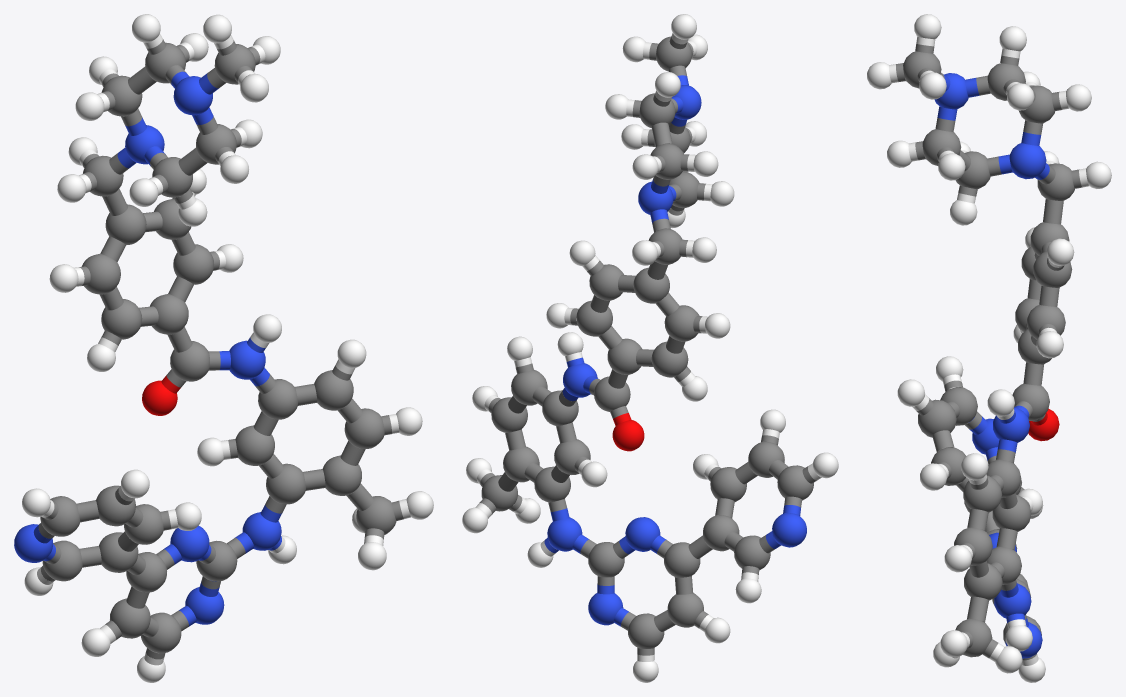
File: atom_1.glb
The picture shows the model from 3 angles, left to right: view 1: azimuth 30°, elevation 25°; view 2: azimuth 150°, elevation 25°; view 3: azimuth 270°, elevation 25°; orthographic projection. The views are drawn at different scales.
Visible parts, largest first — view 1: atom_gray, atom_white, atom_blue, atom_red; view 2: atom_gray, atom_white, atom_blue, atom_red; view 3: atom_gray, atom_white, atom_blue, atom_red.
Part boxes in pixels (left/top/right/bottom): atom_gray: left=38, top=39, right=403, bottom=659; atom_white: left=22, top=14, right=433, bottom=682; atom_blue: left=14, top=71, right=282, bottom=626; atom_red: left=142, top=375, right=180, bottom=415; atom_gray: left=479, top=36, right=816, bottom=655; atom_white: left=462, top=14, right=838, bottom=682; atom_blue: left=544, top=75, right=806, bottom=626; atom_red: left=612, top=413, right=644, bottom=451; atom_gray: left=896, top=44, right=1082, bottom=660; atom_white: left=867, top=14, right=1111, bottom=682; atom_blue: left=934, top=73, right=1049, bottom=658; atom_red: left=1028, top=408, right=1059, bottom=441.
Size of the model in its own units: 0.7269 by 1.19 by 0.393.
